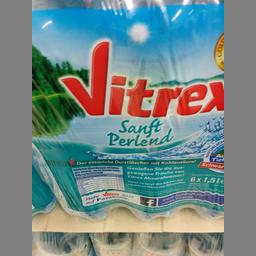water: (30, 0, 223, 219)
